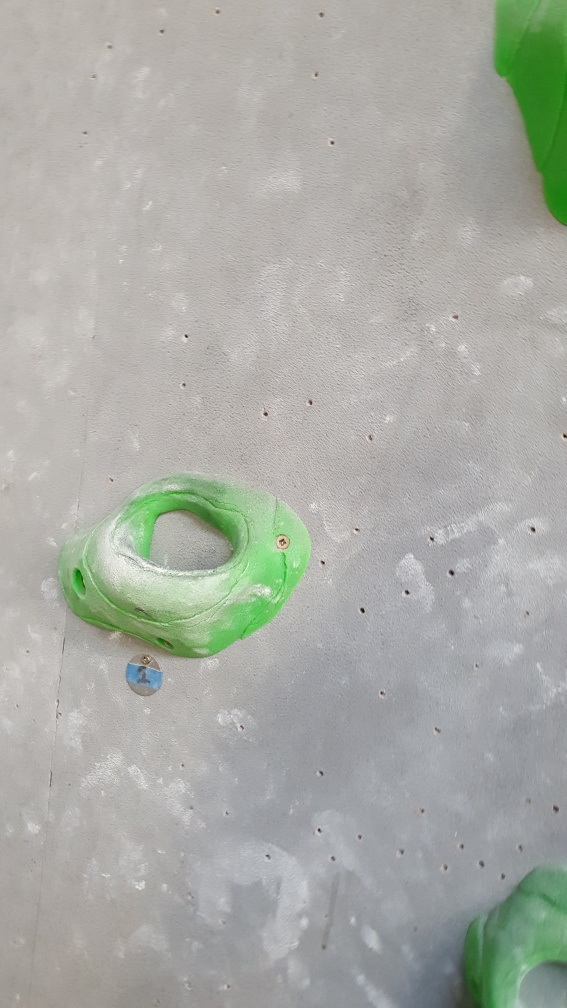Hand Start: (125, 652, 164, 701)
Pocket: (57, 462, 315, 662), (460, 854, 565, 1007)
